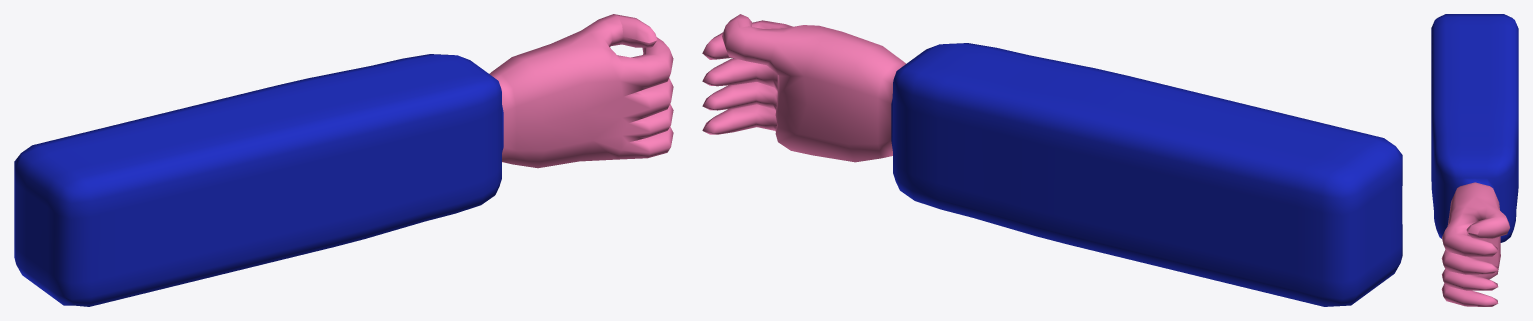
The model's file is bracoFechado.FBX.
The picture shows the model from 3 angles, left to right: view 1: azimuth 30°, elevation 25°; view 2: azimuth 150°, elevation 25°; view 3: azimuth 270°, elevation 25°; orthographic projection. The views are drawn at different scales.
Parts seen in each view (by area): view 1: Box001; view 2: Box001; view 3: Box001.
Part boxes in pixels (x1,y1,x2,y2): Box001: (14, 14, 673, 306); Box001: (702, 14, 1402, 306); Box001: (1431, 14, 1518, 306).
Size of the model in its own units: 132 by 25.28 by 22.39.
